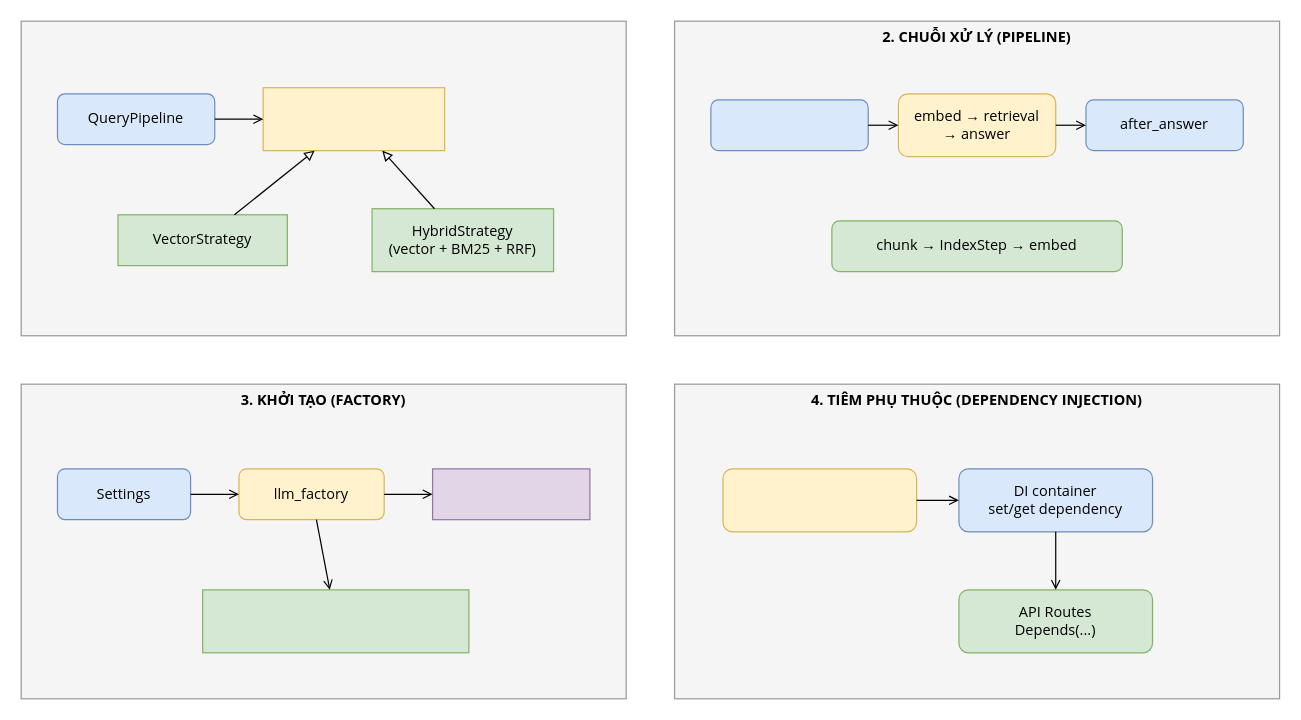
Some shapes in this 1301 by 720 pixel diagram are drawn without their labels. Each missing label, with the box of its shape:
1. CHIẾN LƯỢC (STRATEGY): (20, 20, 626, 336)
before_retrieval: (710, 99, 868, 151)
FastAPI lifespan khởi tạo singleton: (722, 468, 917, 532)
Groq · Mistral · Cohere Gemini · Ollama: (201, 589, 469, 653)
LLMProvider: (431, 468, 590, 520)
«interface» RetrievalStrategy: (262, 87, 445, 151)
